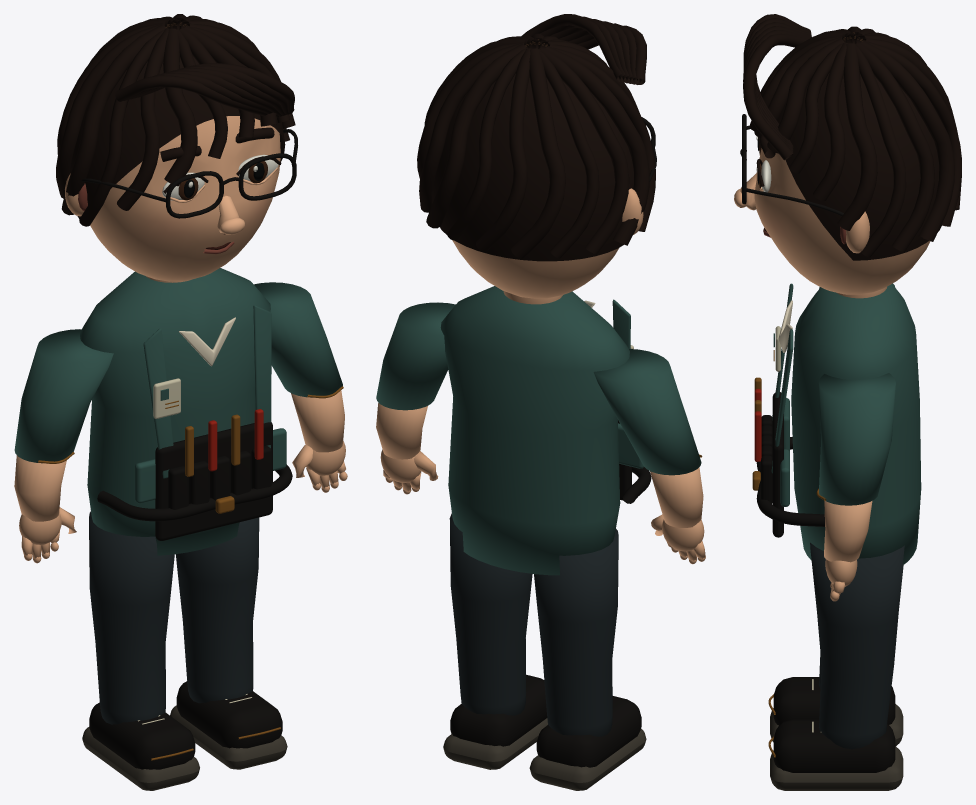
File: technician-02.glb
3 views of the same model, side by side, from view 1: azimuth 30°, elevation 25°; view 2: azimuth 150°, elevation 25°; view 3: azimuth 270°, elevation 25° (orthographic).
Parts seen in each view (by area): view 1: Head, Body, LegL, LegR, ArmL, ArmR; view 2: Head, Body, LegL, LegR, ArmL, ArmR; view 3: Head, Body, LegR, ArmR, LegL.
Part boxes in pixels (x1,y1,x2,y2): Head: (56, 14, 297, 281); Body: (38, 268, 343, 555); LegL: (82, 511, 199, 790); LegR: (170, 517, 287, 769); ArmL: (14, 329, 113, 563); ArmR: (254, 282, 347, 492); Head: (417, 14, 656, 298); Body: (440, 286, 702, 575); LegL: (529, 529, 646, 790); LegR: (443, 513, 547, 769); ArmL: (593, 349, 705, 564); ArmR: (376, 302, 455, 494); Head: (734, 14, 961, 294); Body: (752, 283, 921, 564); LegR: (768, 542, 904, 790); ArmR: (818, 373, 895, 601); LegL: (768, 653, 903, 745).
Bounding box in the file's own units: 0.6343 × 1.35 × 0.387.
